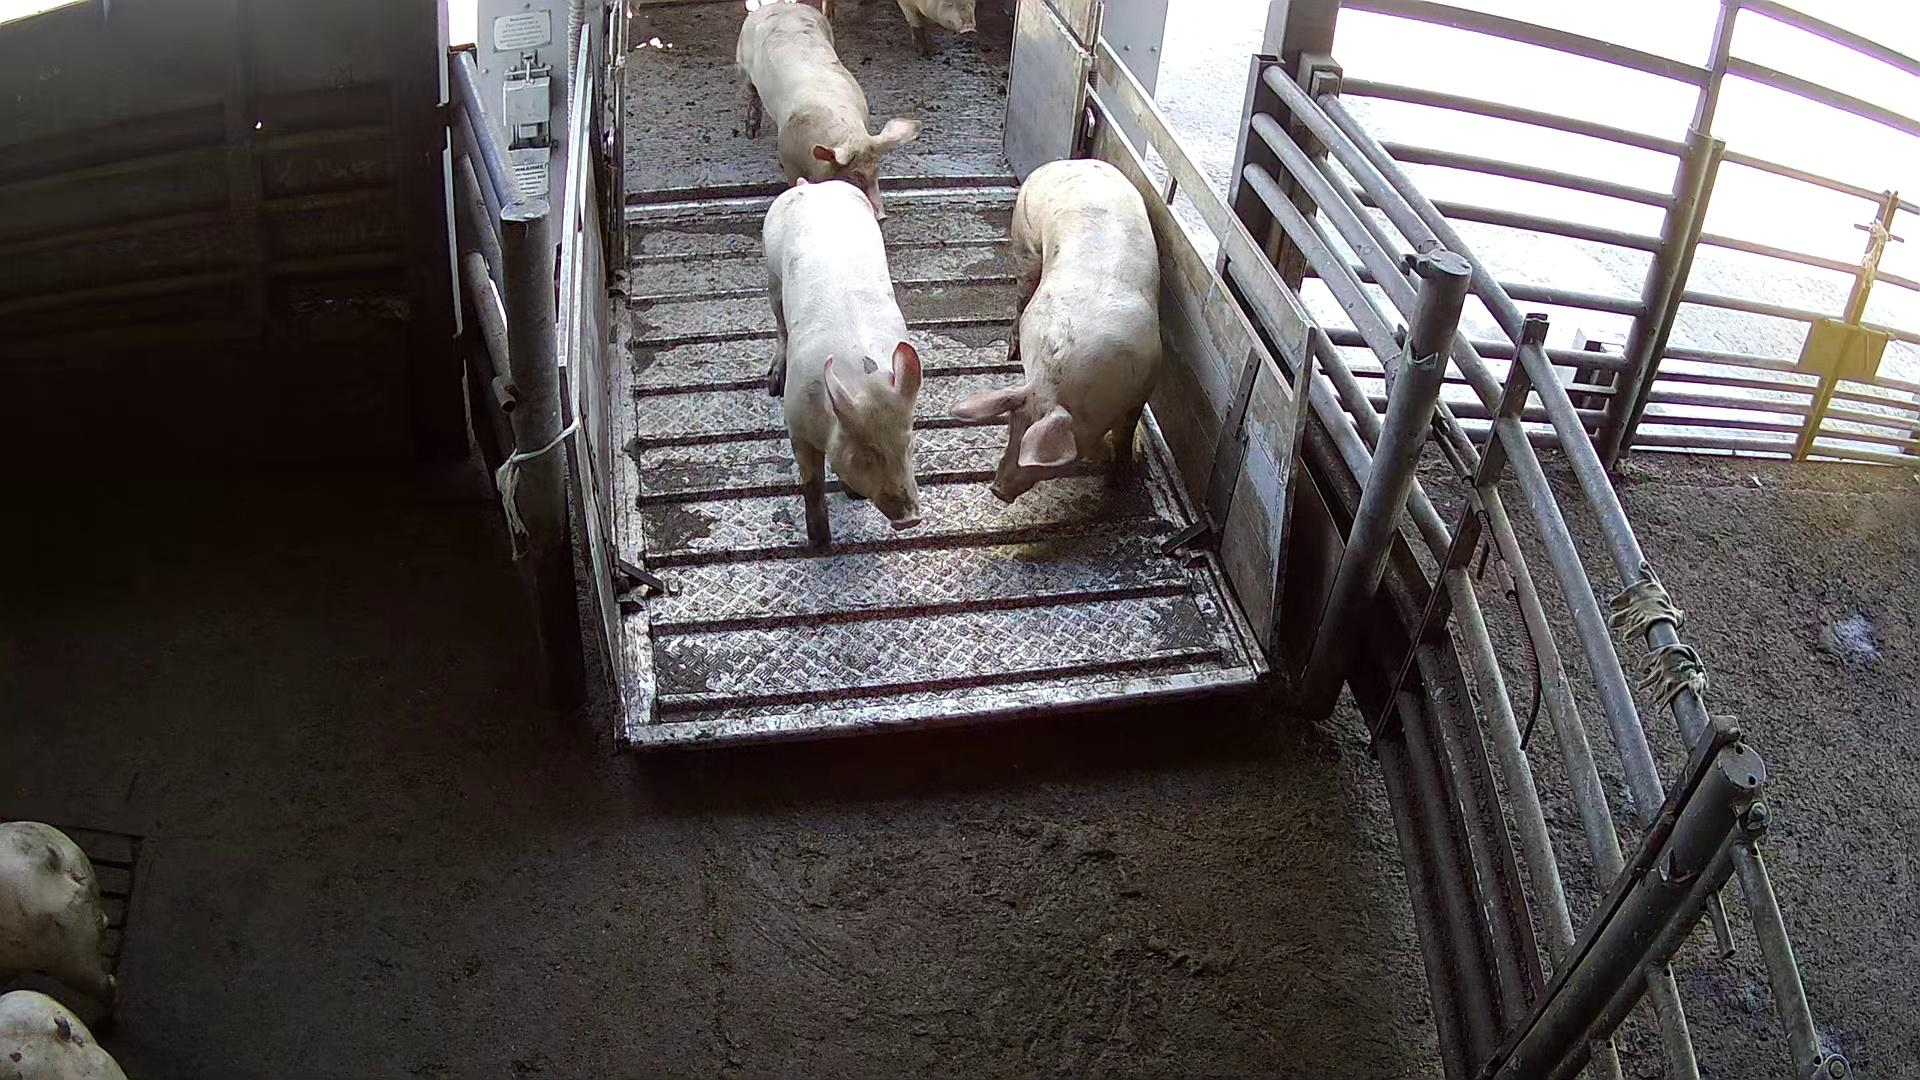Pig: (953, 157, 1162, 501), (764, 178, 923, 549), (735, 0, 920, 218), (0, 822, 112, 1005), (0, 992, 124, 1080), (898, 0, 976, 53)
